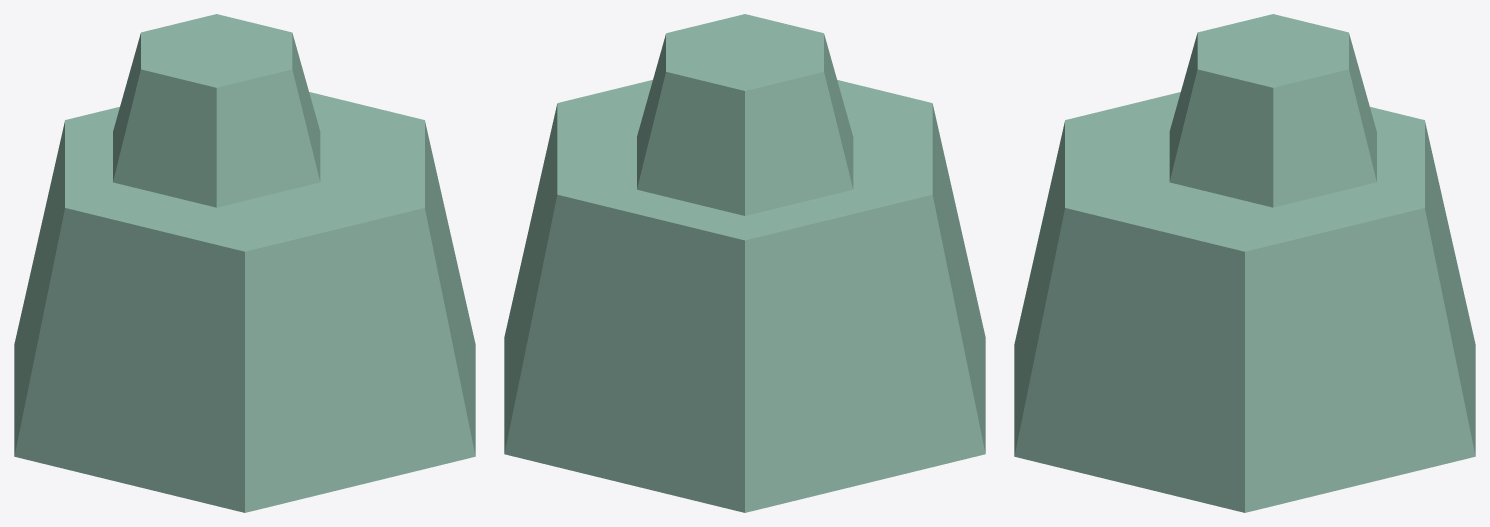
Rendered from naturePack_018.fbx.
The picture shows the model from 3 angles, left to right: view 1: azimuth 30°, elevation 25°; view 2: azimuth 150°, elevation 25°; view 3: azimuth 270°, elevation 25°; orthographic projection. The views are drawn at different scales.
Visible parts, largest first — view 1: naturePack_018; view 2: naturePack_018; view 3: naturePack_018.
Part boxes in pixels (x1,y1,x2,y2): naturePack_018: (14, 14, 475, 512); naturePack_018: (504, 14, 985, 512); naturePack_018: (1014, 14, 1475, 512).
Size of the model in its own units: 100 by 71 by 86.6.
